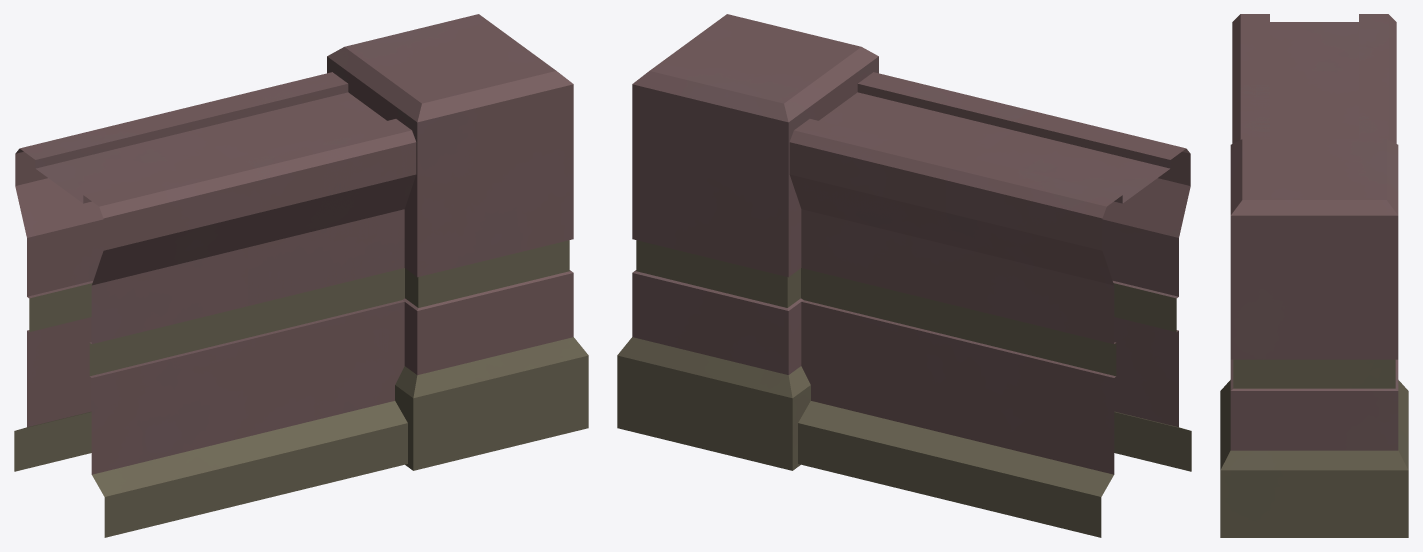
The model's file is SM_Wall_A 1.fbx.
3 views of the same model, side by side, from view 1: azimuth 30°, elevation 25°; view 2: azimuth 150°, elevation 25°; view 3: azimuth 270°, elevation 25° (orthographic). The views are drawn at different scales.
Visible parts, largest first — view 1: wall_C, wall_A, wall_B; view 2: wall_C, wall_A, wall_B; view 3: wall_A, wall_C, wall_B.
Boxes of the visible parts, x1,y1,x2,y2 form: wall_C: [14, 73, 416, 537]; wall_A: [327, 14, 588, 470]; wall_B: [176, 72, 416, 492]; wall_C: [790, 73, 1191, 537]; wall_A: [617, 14, 878, 470]; wall_B: [789, 72, 1029, 498]; wall_A: [1220, 139, 1408, 537]; wall_C: [1232, 14, 1396, 143]; wall_B: [1232, 85, 1396, 143].
Size of the model in its own units: 3.06 by 2.16 by 1.12.
Materials: 1 (1 with a texture image).
